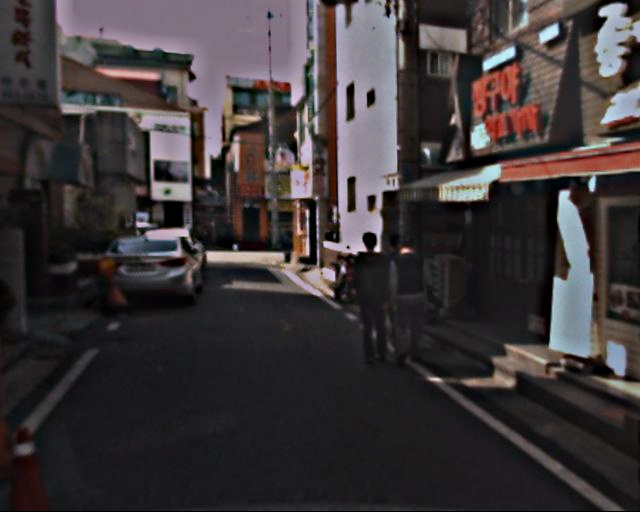person: (381, 235, 434, 365), (346, 233, 399, 362), (370, 232, 418, 350)
